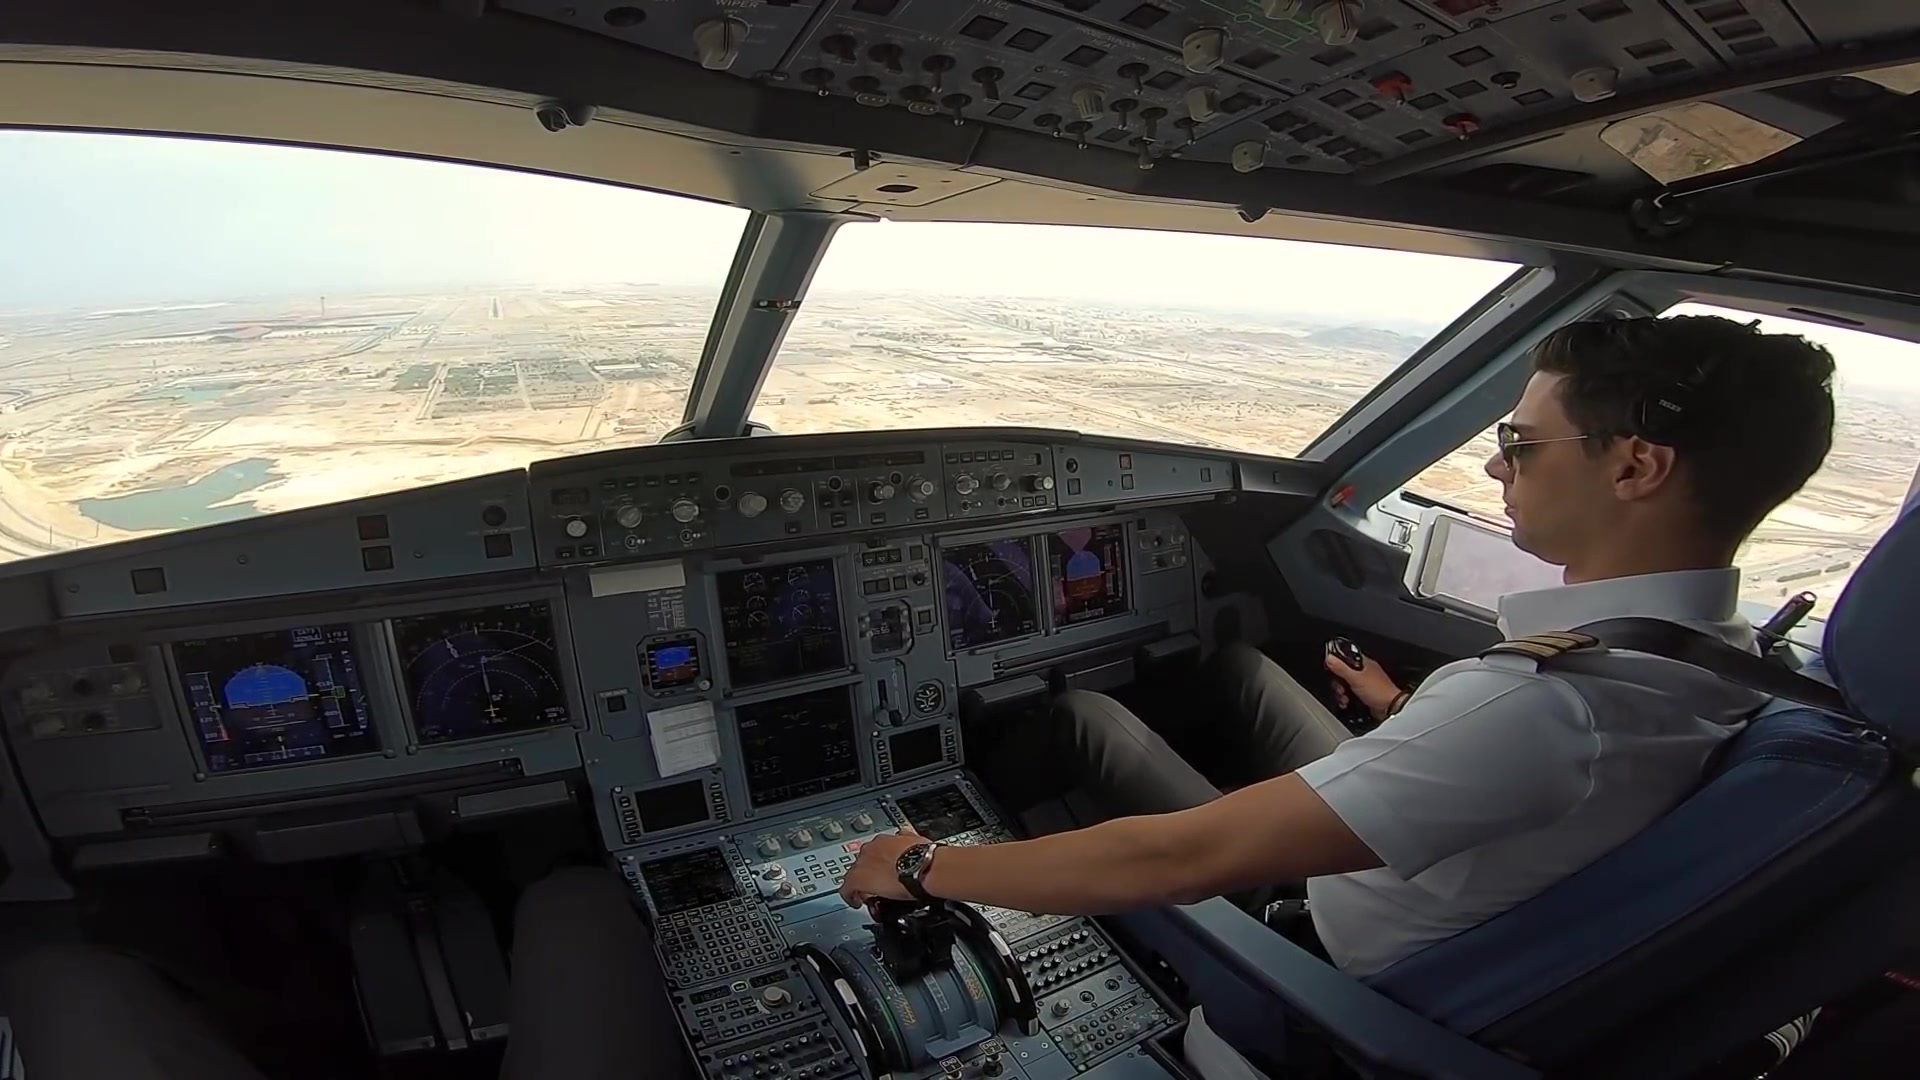runway: (487, 294, 505, 320)
